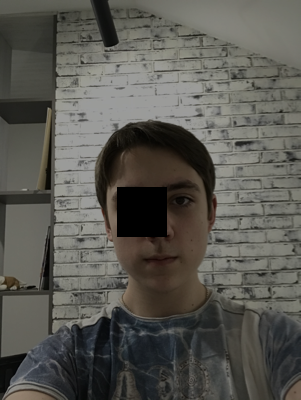without_mask: (107, 175, 209, 292)
